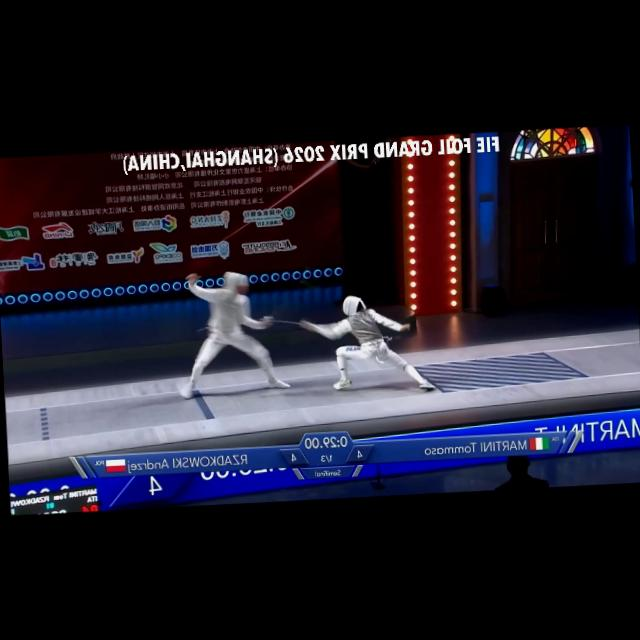blade: (262, 318, 314, 332)
